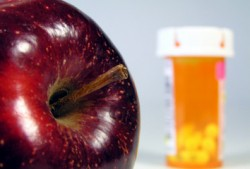pill bottle: (158, 27, 234, 169)
